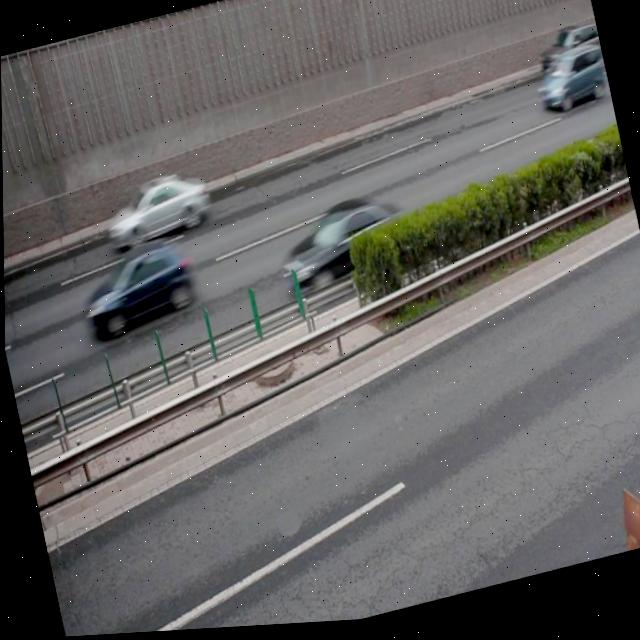car: (270, 188, 414, 306), (73, 232, 200, 343), (99, 165, 216, 255), (529, 48, 601, 123), (532, 23, 605, 89)
